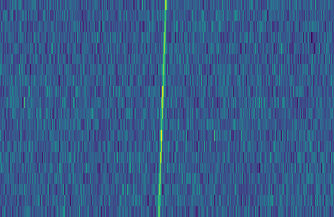signal: (154, 0, 169, 217)
